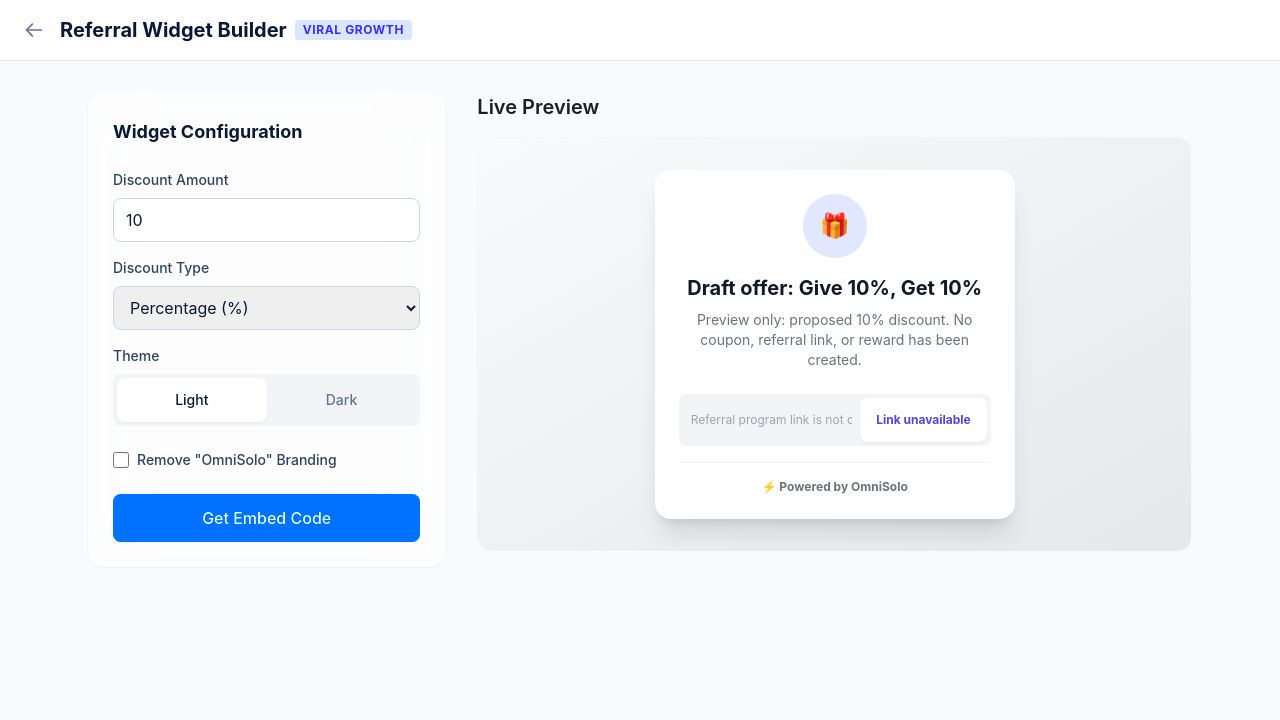
Test: Referral widget authenticated preview copy › shows truthful failure after a rejected clipboard write
The width and height of the screenshot is (1280, 720).
Click the button "Get Embed Code" at [267, 518], box [113,494,420,542]
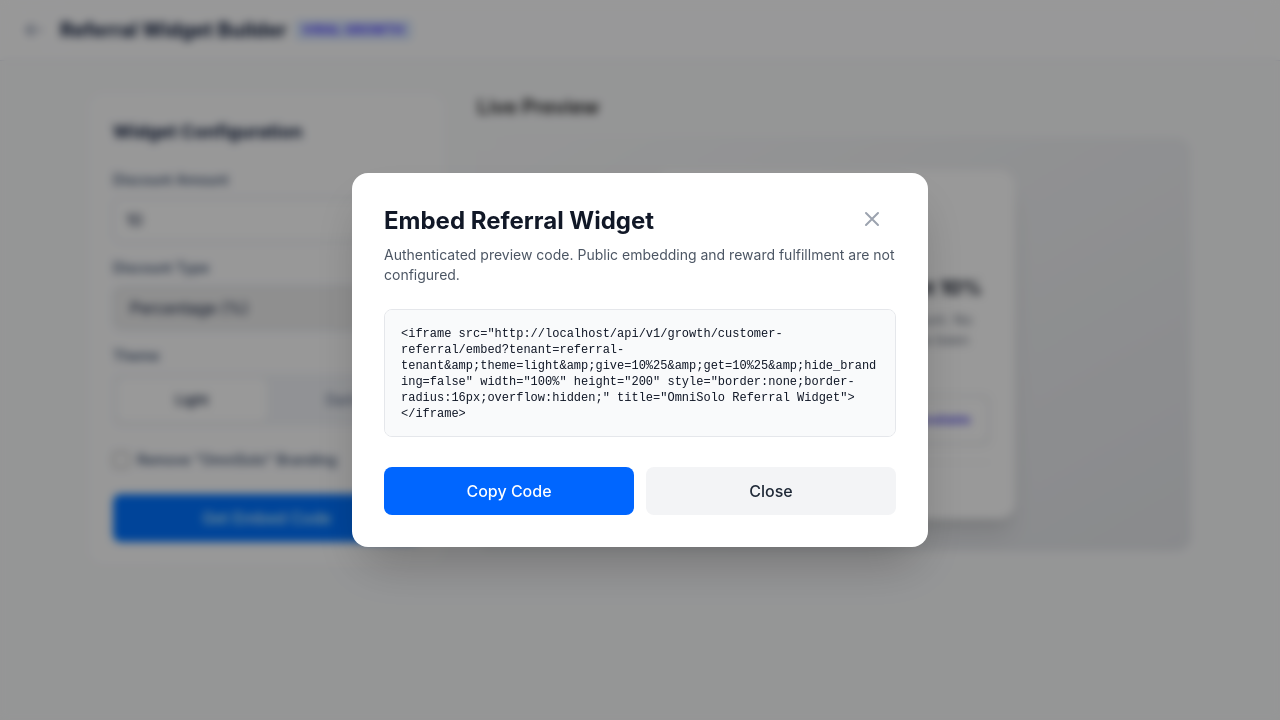
Click the button "Copy Code" at [509, 491], box [384,467,634,515]
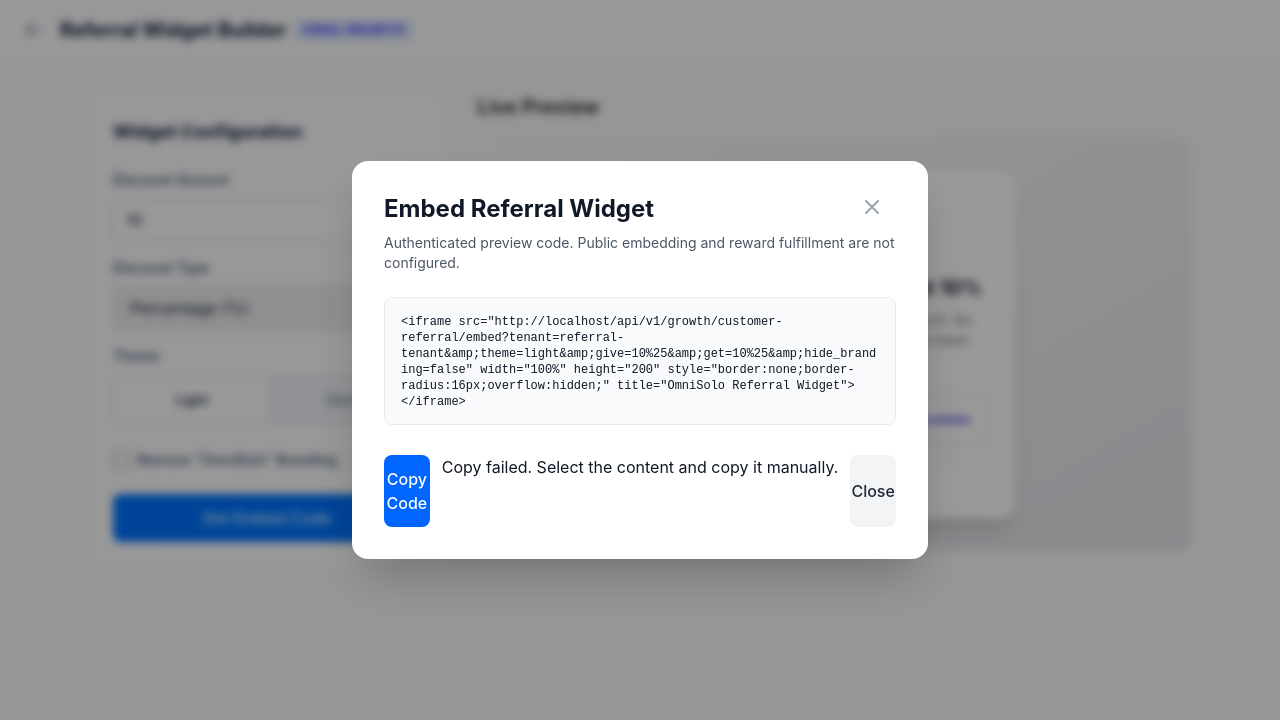
Check: the button "Copy Code" is enabled, box [384,455,430,527]
Check: the message shows "Copy failed", box [442,457,838,477]
